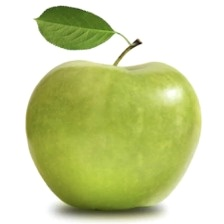apple: (52, 57, 194, 207)
